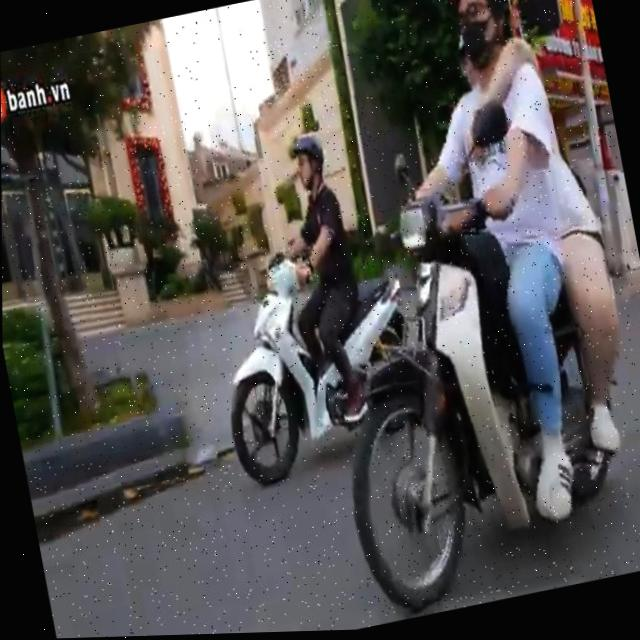motorcycle: (298, 132, 640, 618), (198, 220, 435, 502)
